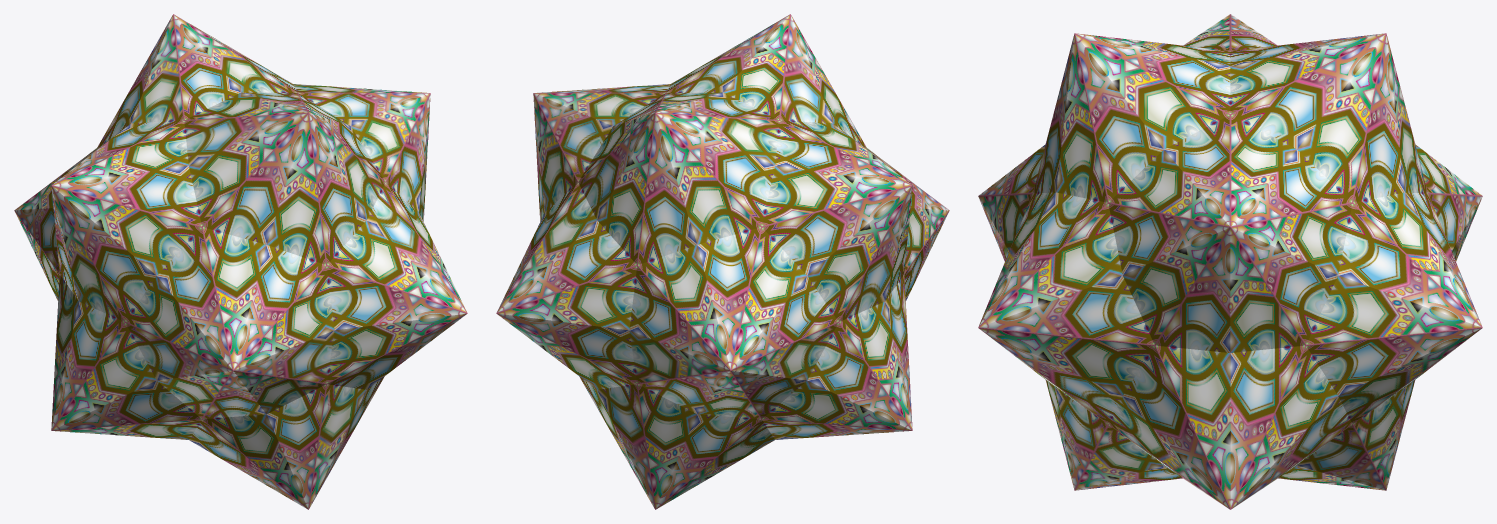
Rendered from 6SmallDodecacronicHexecontahedron.obj.
The picture shows the model from 3 angles, left to right: view 1: azimuth 30°, elevation 25°; view 2: azimuth 150°, elevation 25°; view 3: azimuth 270°, elevation 25°; orthographic projection. The views are drawn at different scales.
Bounding box in the file's own units: 5.24 × 5.24 × 5.24.
Materials: 1 (1 with a texture image).
